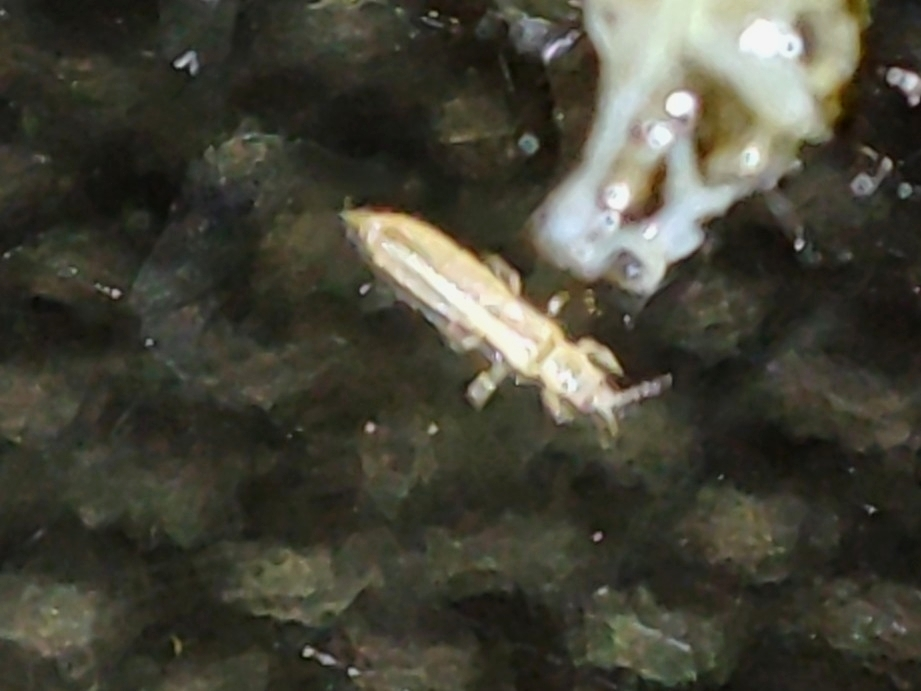tiny_pests: (300, 143, 689, 478)
